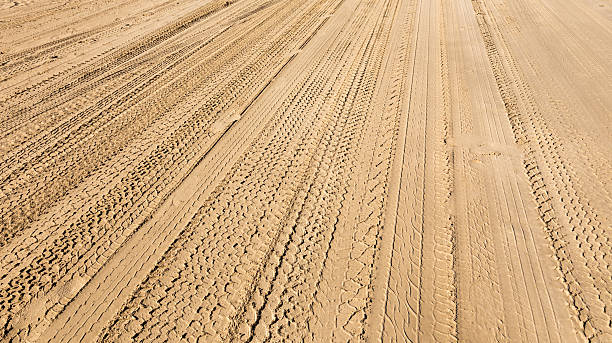vehicle_track: (0, 0, 611, 342), (107, 40, 381, 340), (228, 6, 376, 340), (472, 0, 611, 341), (1, 115, 209, 330), (3, 41, 222, 238), (2, 32, 200, 153), (16, 0, 232, 106), (377, 1, 434, 340), (0, 1, 177, 80), (418, 1, 458, 341), (162, 208, 232, 265)
